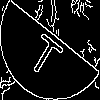T: (24, 24, 69, 80)
